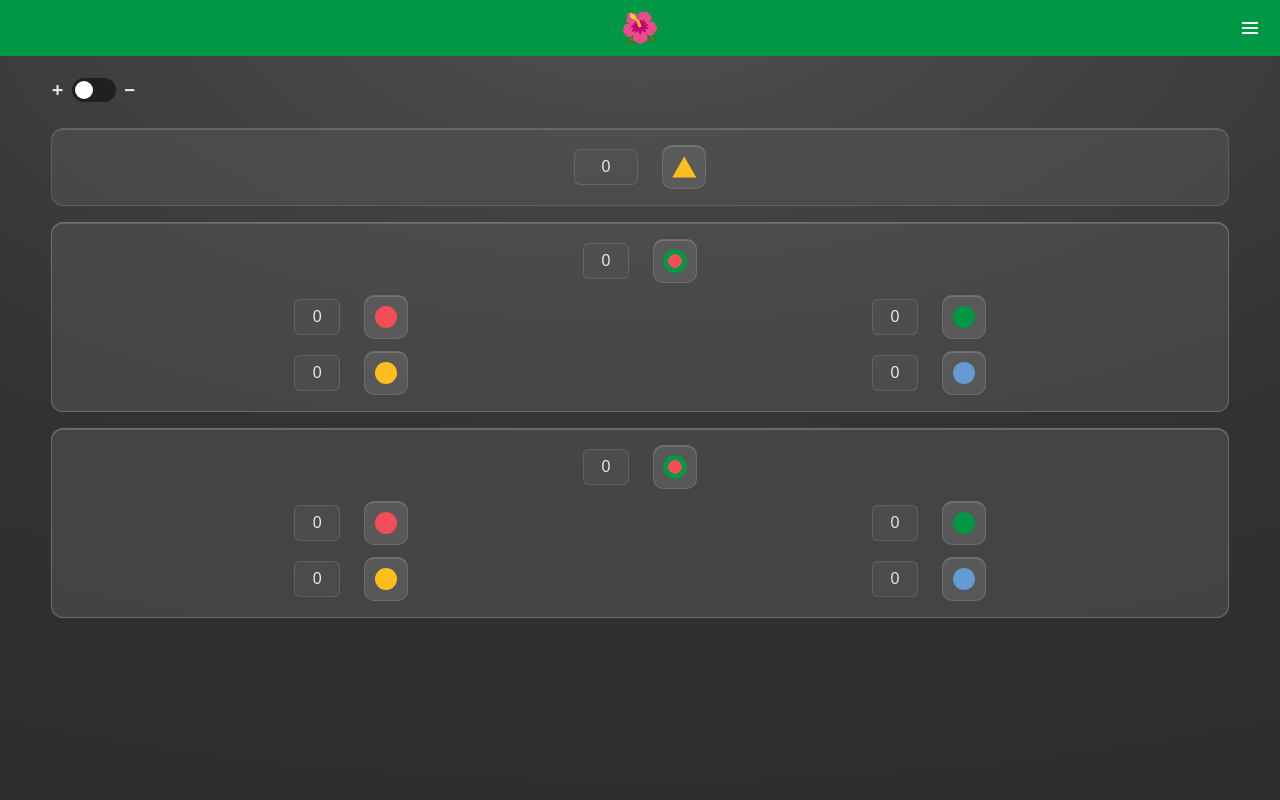
Test: サイドメニュー › ログイン済み時は userName とログアウトボタンが表示される
Click the button named "メニュー".
click(1250, 28)  # box [1228,6,1272,50]
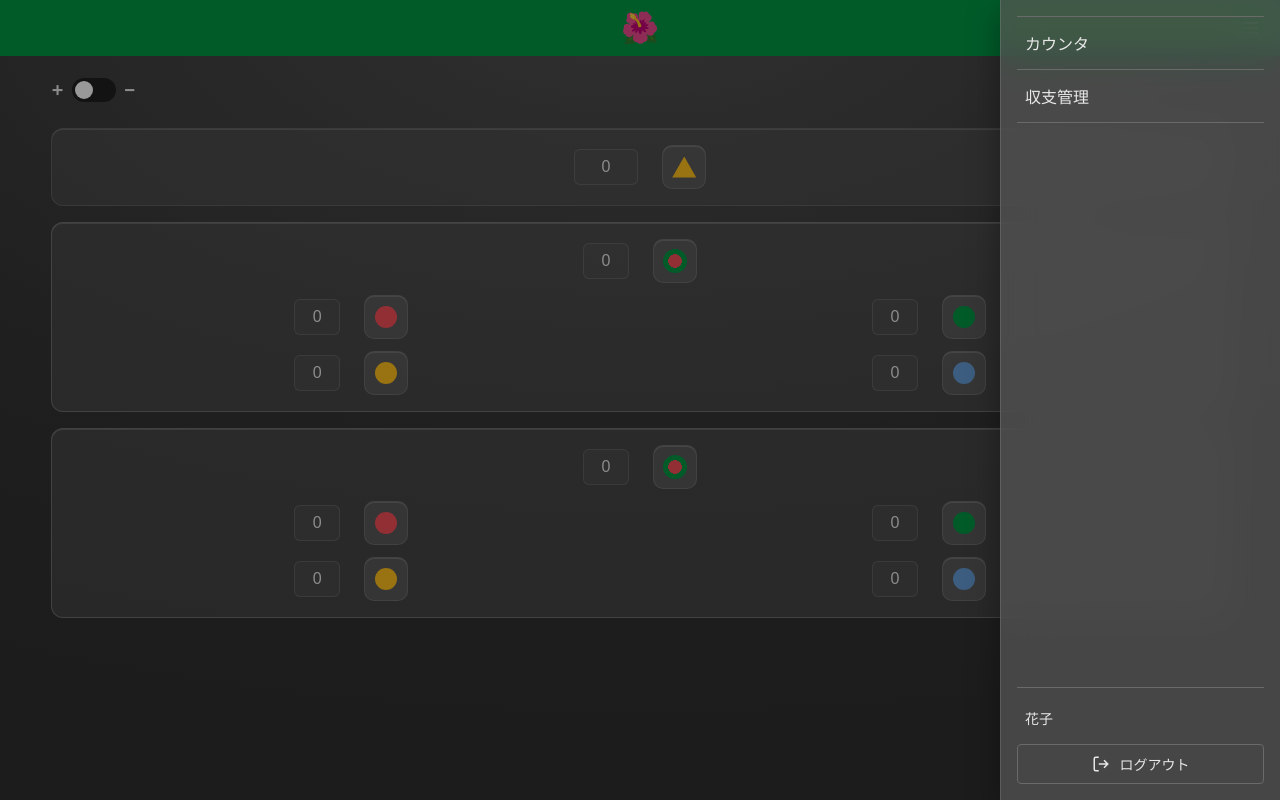
Result: the text "花子" is shown at [1025,709,1053,728]
Result: the button "ログアウト" is shown at [1017,744,1264,784]
